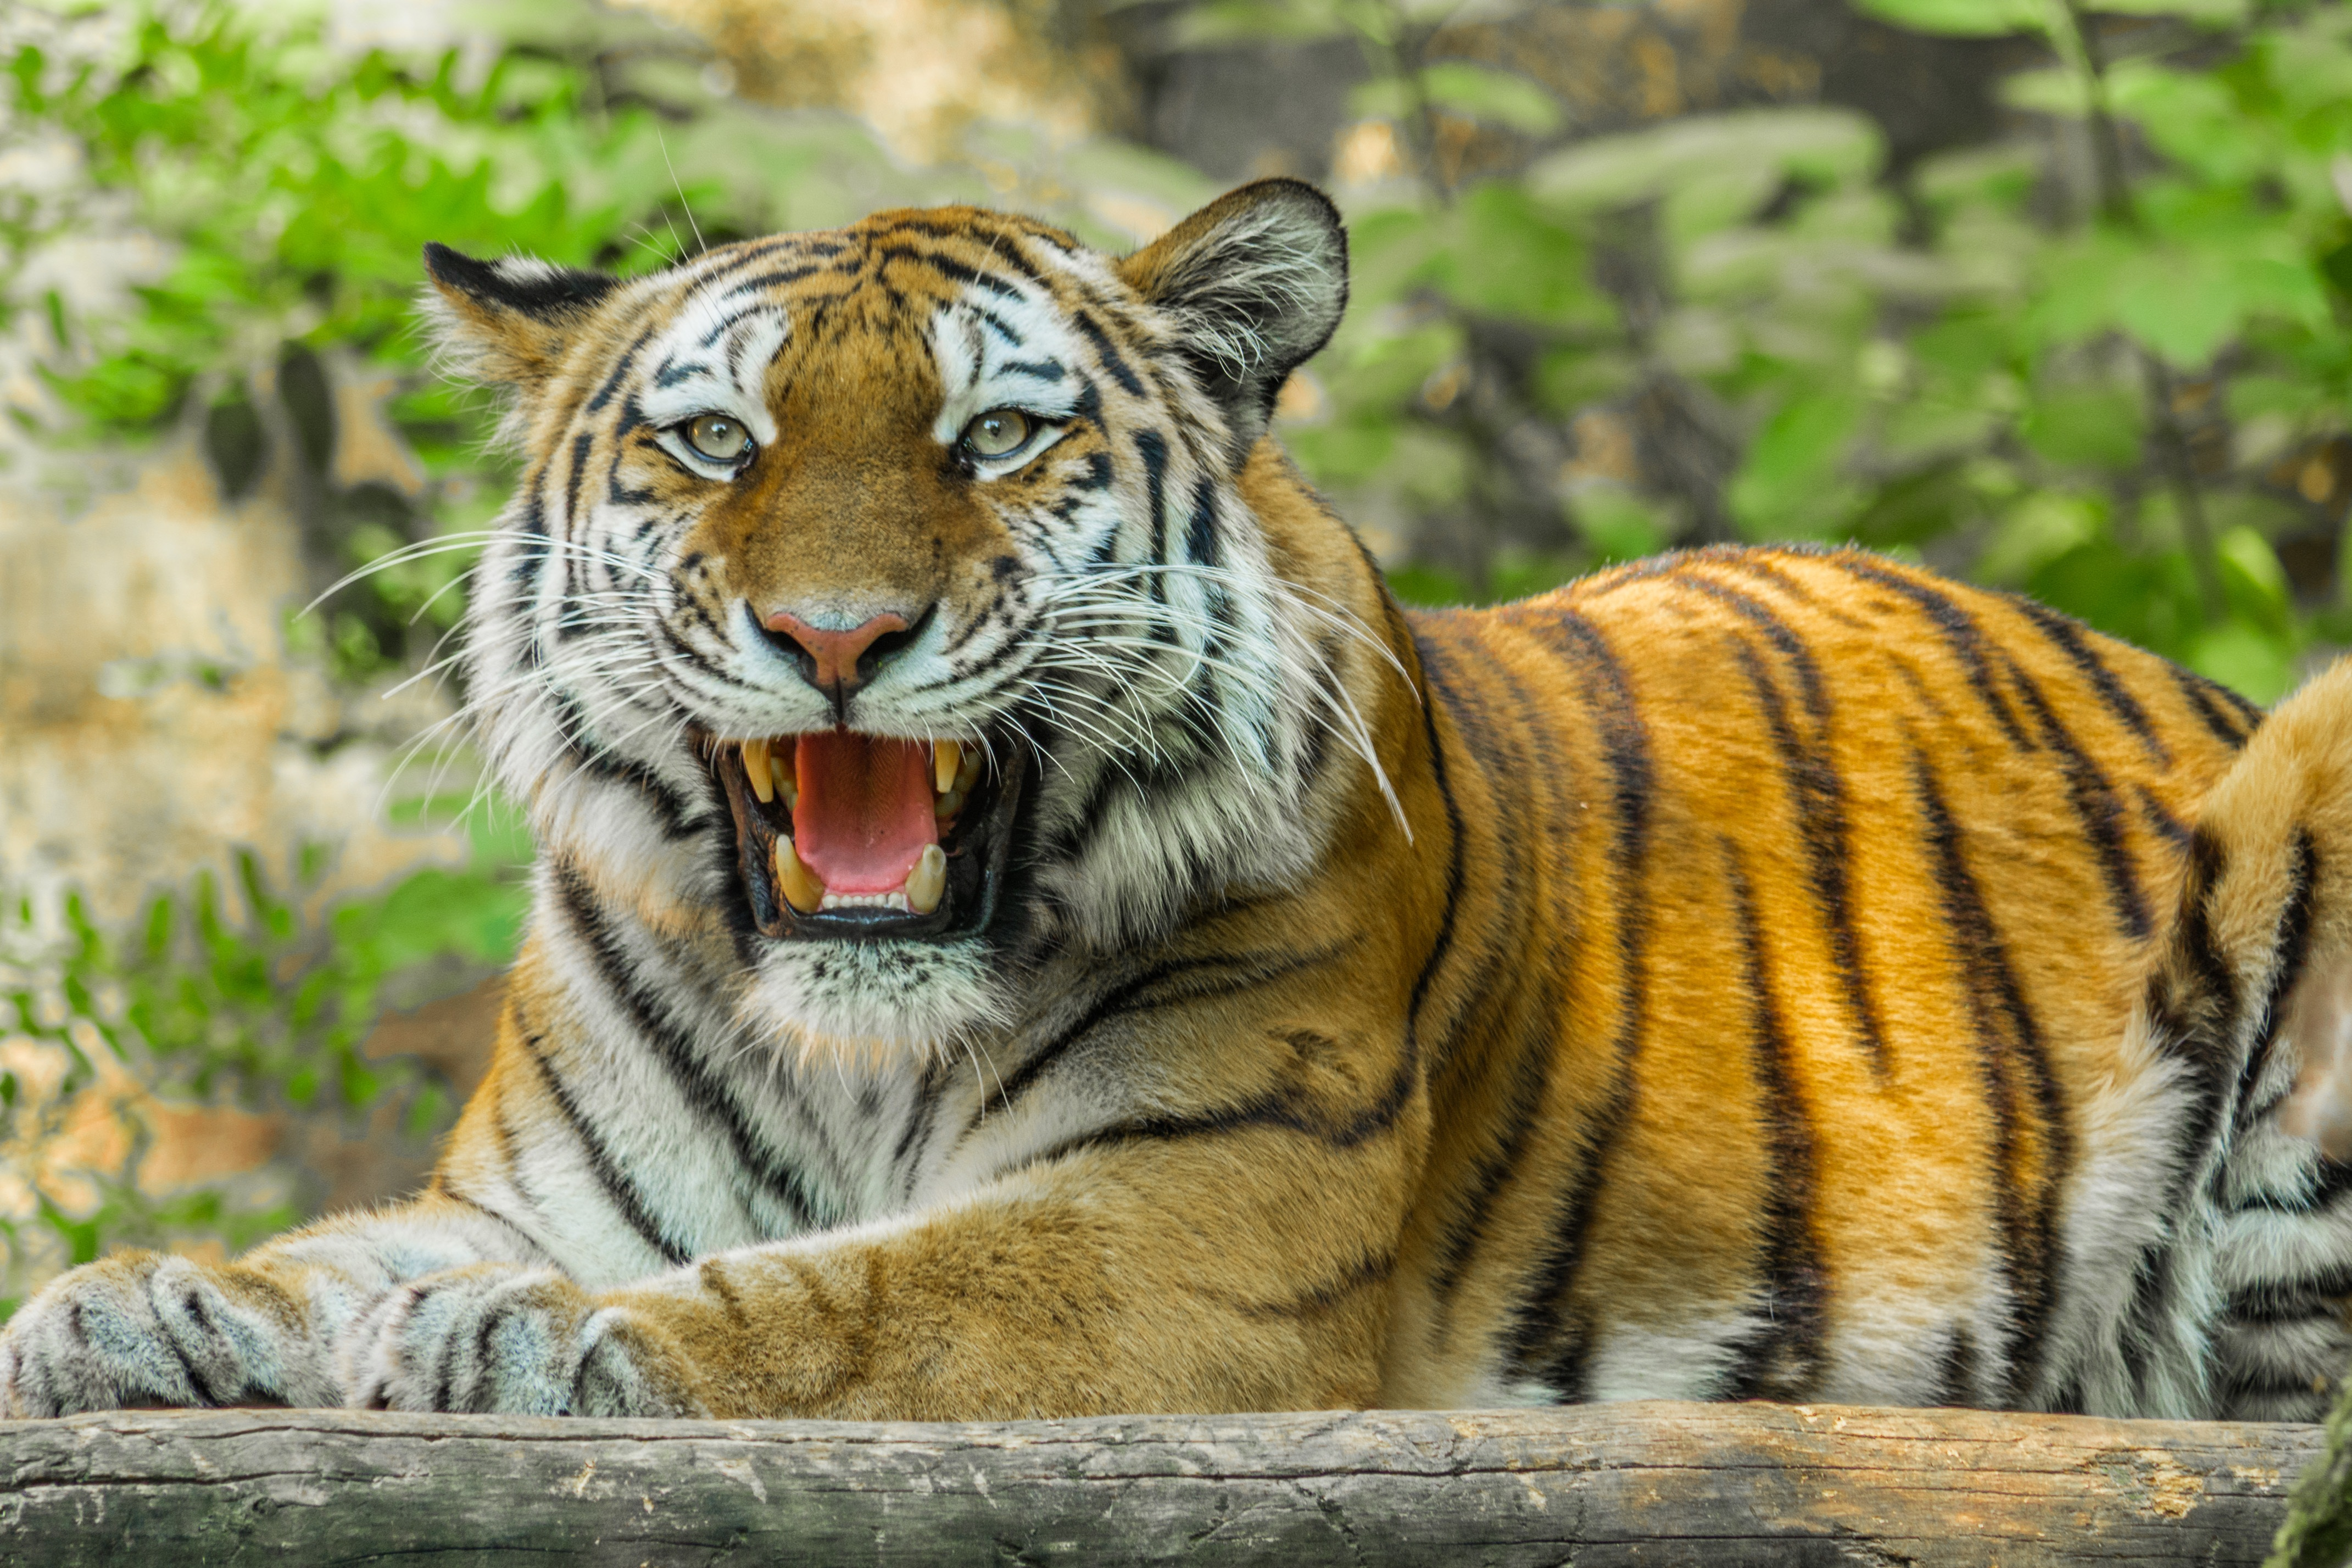tiger: (157, 199, 2224, 1426)
